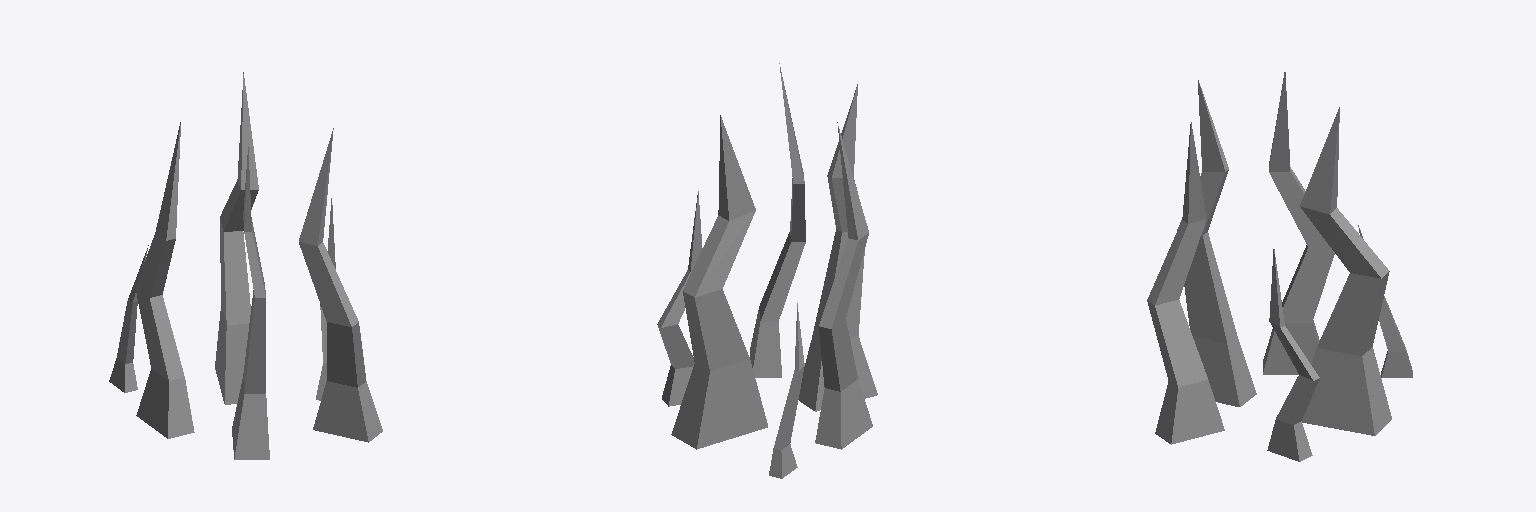
File: Grass3.obj
3 views of the same model, side by side, from view 1: azimuth 30°, elevation 25°; view 2: azimuth 150°, elevation 25°; view 3: azimuth 270°, elevation 25° (orthographic).
Visible parts, largest first — view 1: Cube.001_Cube.003; view 2: Cube.001_Cube.003; view 3: Cube.001_Cube.003.
Boxes of the visible parts, <box> form: Cube.001_Cube.003: <box>109,72,382,459</box>; Cube.001_Cube.003: <box>657,63,877,478</box>; Cube.001_Cube.003: <box>1147,72,1412,461</box>.
Bounding box in the file's own units: 0.456 × 0.7168 × 0.5435.